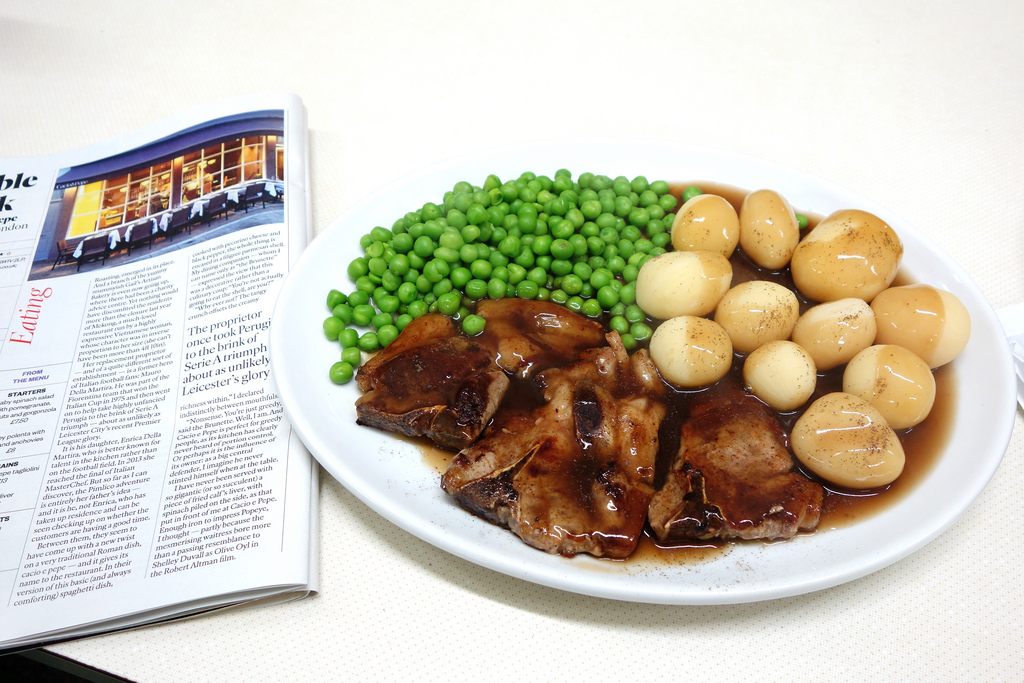boiled peas: (440, 202, 609, 284)
boiled potatoes: (701, 210, 909, 392)
